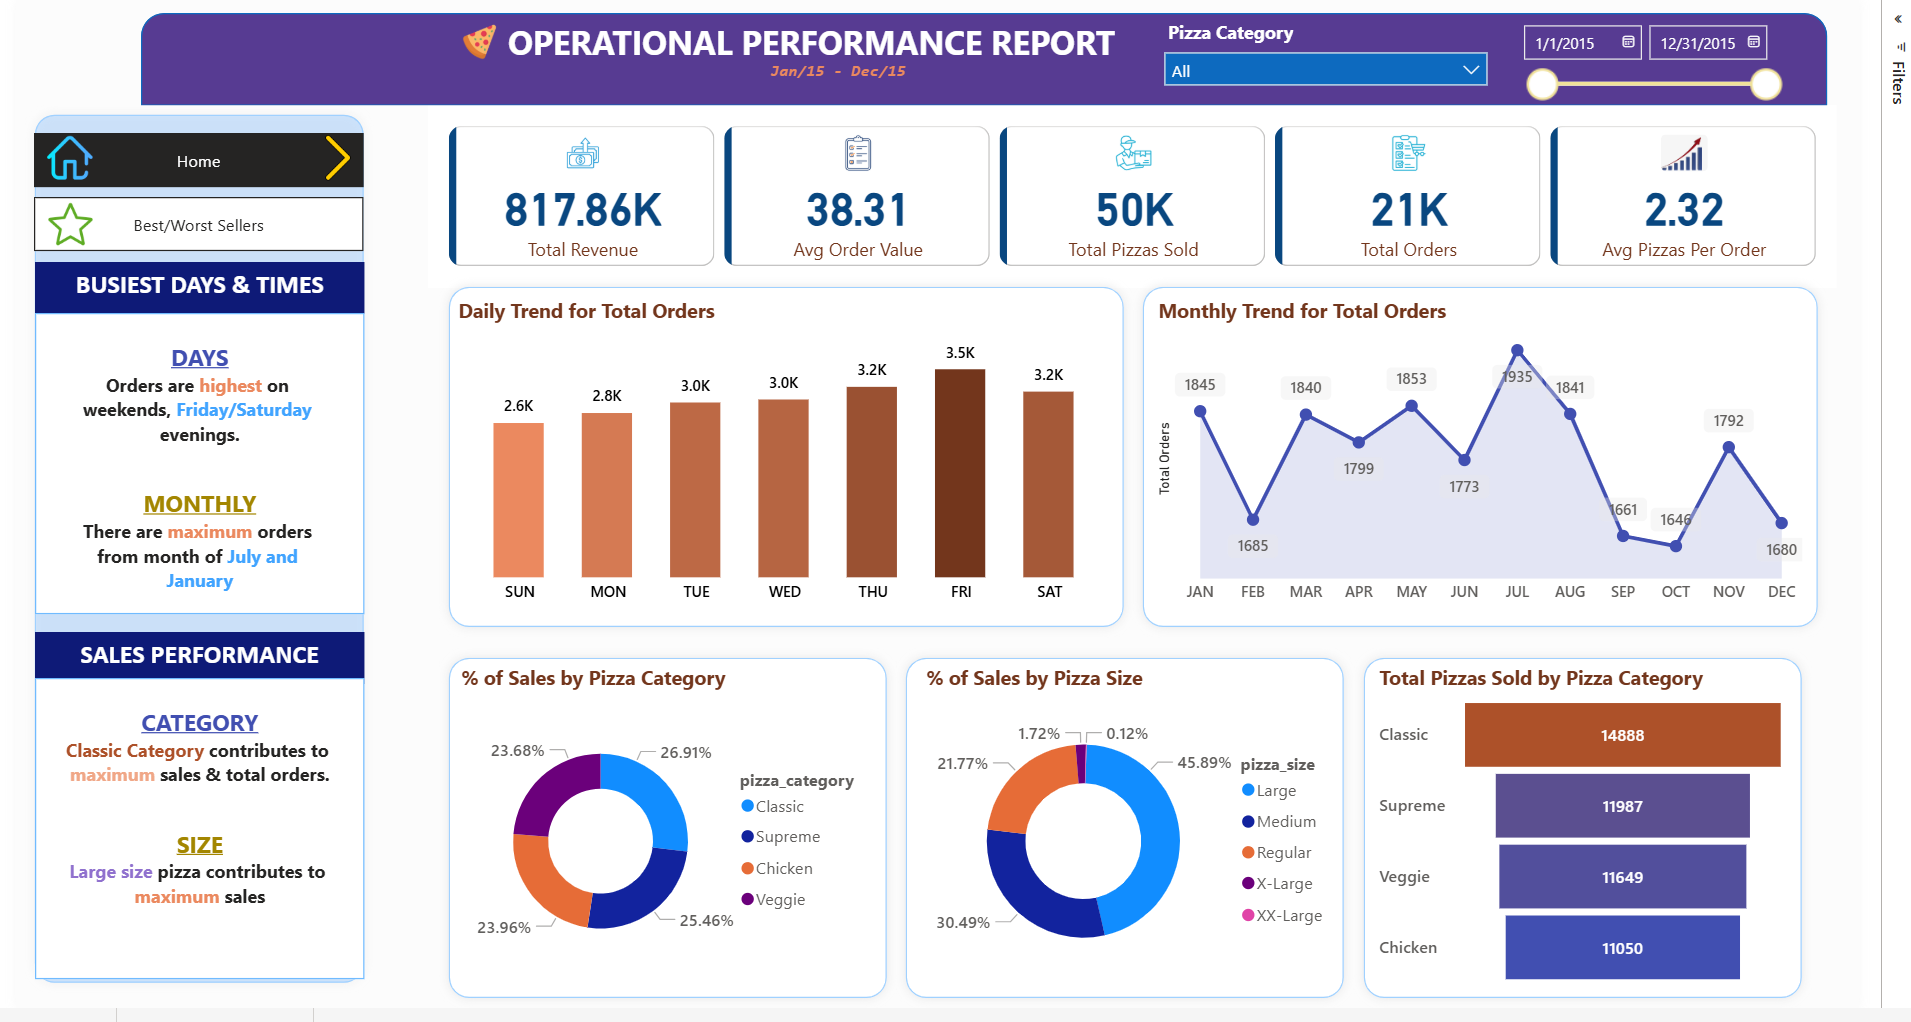

Layout of this report page (visuals, bound fields, positions):
{"tool":"powerbi","page":{"name":"Home","canvas":[1500,820],"ordinal":0},"visuals":[{"type":"shape","box":[7.1,85.7,283.5,722.1],"z":0},{"type":"cardVisual","fields":{"Data":["pizza_sales.Total Revenue","pizza_sales.Avg Order Value","pizza_sales.Total Pizzas Sold","pizza_sales.Total Orders","pizza_sales.Avg Pizzas Per Order"]},"box":[335.5,85.7,1146.4,148.9],"z":1000},{"type":"shape","box":[102,10.2,1371.8,75.5],"z":2000},{"type":"textbox","box":[370.2,10.2,553.8,45.9],"z":3000},{"type":"textbox","box":[601.7,42.8,133.6,42.8],"z":4000},{"type":"image","box":[357,19.4,39.8,28.6],"z":5000},{"type":"shape","box":[343.7,225.4,565,292.7],"z":6000},{"type":"columnChart","title":"Daily Trend for Total Orders","fields":{"Category":["pizza_sales.Order Day"],"Y":["pizza_sales.Total Orders"]},"box":[354.9,241.7,541.6,258],"z":7000},{"type":"shape","box":[908.7,225.4,565,292.7],"z":8000},{"type":"areaChart","title":"Monthly Trend for Total Orders","fields":{"Category":["pizza_sales.Order Month"],"Y":["pizza_sales.Total Orders"]},"box":[924,241.7,534.4,258],"z":9000},{"type":"shape","box":[343.7,527.3,372.3,292.7],"z":10000},{"type":"shape","box":[1088.2,527.3,372.3,292.7],"z":11000},{"type":"shape","box":[716,527.3,372.3,292.7],"z":12000},{"type":"donutChart","title":"% of Sales by Pizza Category","fields":{"Category":["pizza_sales.pizza_category"],"Y":["pizza_sales.Total Revenue"]},"box":[357,540.5,345.7,267.2],"z":13000},{"type":"donutChart","title":"% of Sales by Pizza Size","fields":{"Y":["pizza_sales.Total Revenue"],"Category":["pizza_sales.pizza_size"]},"box":[735.3,540.5,345.7,267.2],"z":14000},{"type":"funnel","title":"Total Pizzas Sold by Pizza Category","fields":{"Category":["pizza_sales.pizza_category"],"Y":["pizza_sales.Total Pizzas Sold"]},"box":[1103.5,540.5,341.7,267.2],"z":15000},{"type":"textbox","box":[15.3,213.2,268.2,41.8],"z":16000},{"type":"textbox","box":[15.3,255,268.2,244.8],"z":17000},{"type":"textbox","box":[15.3,514,268.2,41.8],"z":18000},{"type":"textbox","box":[15.3,551.8,268.2,244.8],"z":19000},{"type":"slicer","fields":{"Values":["pizza_sales.pizza_category"]},"box":[924,10.2,282.5,65.3],"z":20000},{"type":"slicer","fields":{"Values":["pizza_sales.order_date"]},"box":[1213.7,10.2,231.5,75.5],"z":21000},{"type":"pageNavigator","box":[14.3,108.1,268.2,44.9],"z":22000},{"type":"pageNavigator","box":[14.3,160.1,268.2,44.9],"z":23000},{"type":"image","box":[224.4,110.1,74.5,36.7],"z":24000},{"type":"image","box":[7.1,110.1,73.4,36.7],"z":25000},{"type":"image","box":[7.1,164.2,73.4,35.7],"z":26000}]}

Visuals, with their boxes on the page's 1500x820 design canvas (x1, y1, x2, y2). These are canvas units, not pixel positions in the 1911x1022 screenshot, which may show the page scaled, cropped or inside an application window:
shape: bbox(7, 86, 291, 808)
cardVisual - pizza_sales.Total Revenue x pizza_sales.Avg Order Value: bbox(336, 86, 1482, 235)
shape: bbox(102, 10, 1474, 86)
textbox: bbox(370, 10, 924, 56)
textbox: bbox(602, 43, 735, 86)
image: bbox(357, 19, 397, 48)
shape: bbox(344, 225, 909, 518)
"Daily Trend for Total Orders" columnChart: bbox(355, 242, 896, 500)
shape: bbox(909, 225, 1474, 518)
"Monthly Trend for Total Orders" areaChart: bbox(924, 242, 1458, 500)
shape: bbox(344, 527, 716, 820)
shape: bbox(1088, 527, 1460, 820)
shape: bbox(716, 527, 1088, 820)
"% of Sales by Pizza Category" donutChart: bbox(357, 540, 703, 808)
"% of Sales by Pizza Size" donutChart: bbox(735, 540, 1081, 808)
"Total Pizzas Sold by Pizza Category" funnel: bbox(1104, 540, 1445, 808)
textbox: bbox(15, 213, 284, 255)
textbox: bbox(15, 255, 284, 500)
textbox: bbox(15, 514, 284, 556)
textbox: bbox(15, 552, 284, 797)
slicer - pizza_sales.pizza_category: bbox(924, 10, 1206, 76)
slicer - pizza_sales.order_date: bbox(1214, 10, 1445, 86)
pageNavigator: bbox(14, 108, 282, 153)
pageNavigator: bbox(14, 160, 282, 205)
image: bbox(224, 110, 299, 147)
image: bbox(7, 110, 80, 147)
image: bbox(7, 164, 80, 200)
